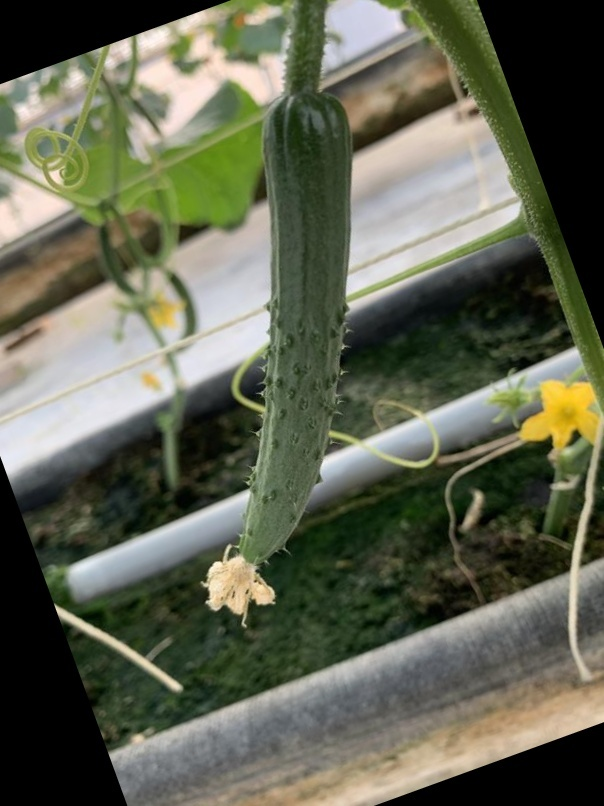growth: (213, 75, 375, 586)
